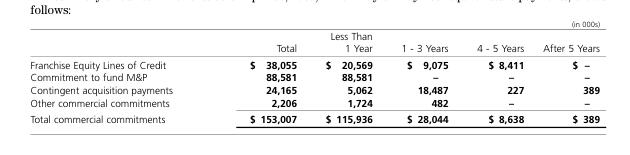table: (29, 29, 599, 124)
table column: (29, 29, 210, 124), (210, 29, 310, 124), (310, 29, 386, 124), (386, 29, 461, 124), (461, 29, 532, 124), (532, 29, 599, 124)
table column header: (29, 29, 599, 55)
table row: (29, 29, 599, 55), (29, 55, 599, 70), (29, 95, 599, 110), (29, 110, 599, 124), (29, 70, 599, 83), (29, 83, 599, 95)
